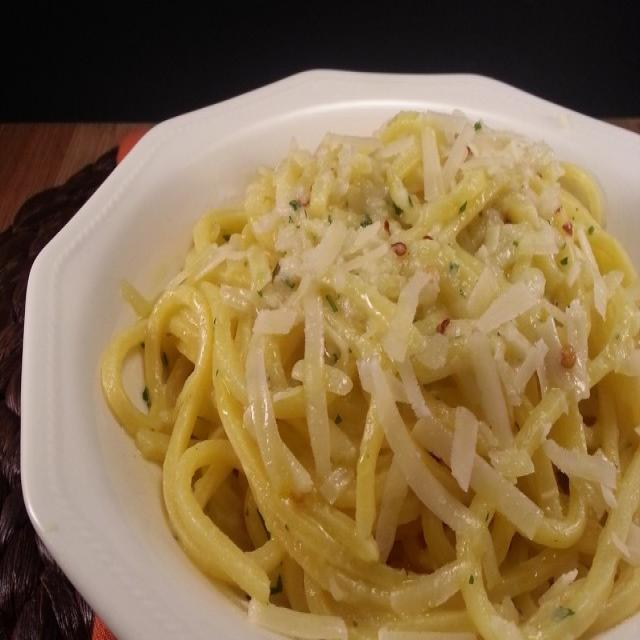Oil pasta: (127, 106, 640, 582)
